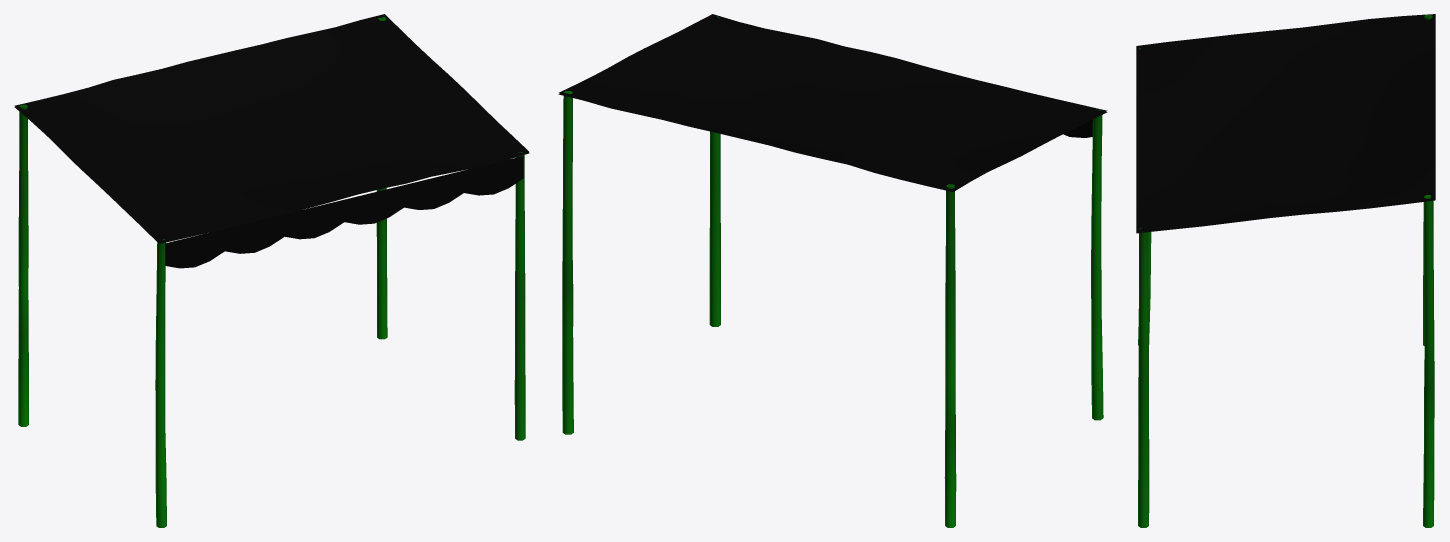
The model's file is awning_cloth.glb.
The picture shows the model from 3 angles, left to right: view 1: azimuth 30°, elevation 25°; view 2: azimuth 150°, elevation 25°; view 3: azimuth 270°, elevation 25°; orthographic projection. The views are drawn at different scales.
Visible parts, largest first — view 1: awning_cloth; view 2: awning_cloth; view 3: awning_cloth.
Boxes of the visible parts, left/top/right/bottom form: awning_cloth: left=14, top=14, right=529, bottom=527; awning_cloth: left=558, top=14, right=1107, bottom=527; awning_cloth: left=1136, top=14, right=1435, bottom=527.
Size of what is drawn, in the model's own units: 3.1 by 2.56 by 2.1.
